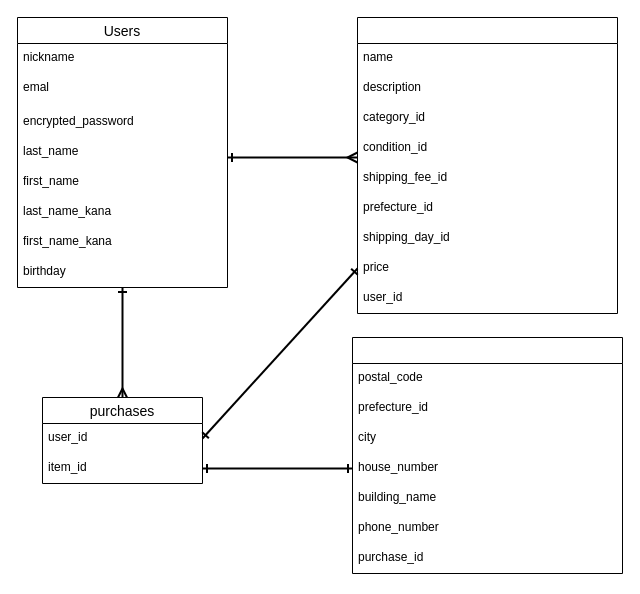
Image size: 640x594. Some labels were removed from this diagram. The box of each missing label's shape, as (x1, y1, x2, y2) in pixels:
addresses: (352, 336, 622, 574)
items: (356, 16, 618, 314)
